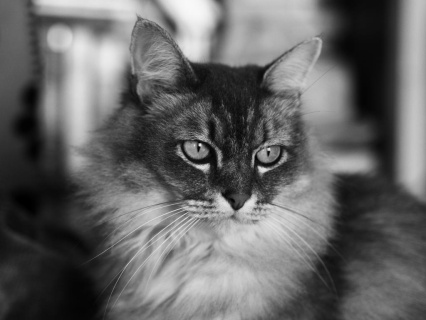Cat: (66, 14, 426, 319)
